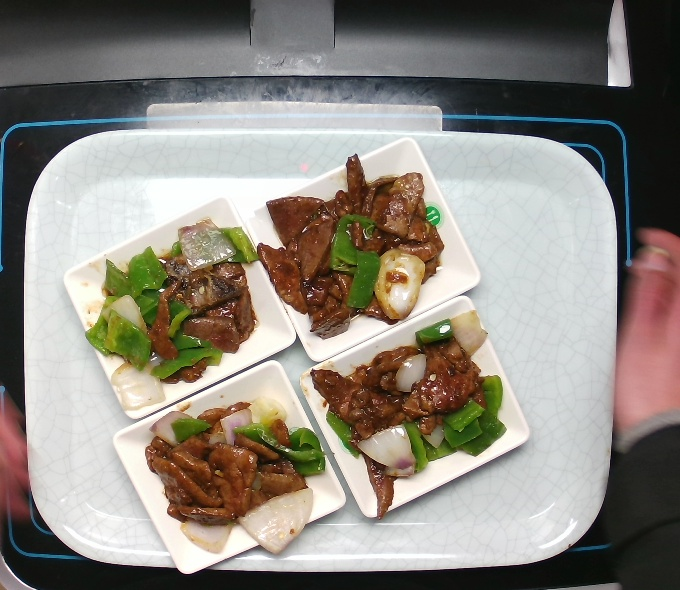wcq-ZhuGan: (260, 150, 453, 332), (307, 315, 488, 497), (142, 385, 320, 547), (85, 222, 263, 384)
